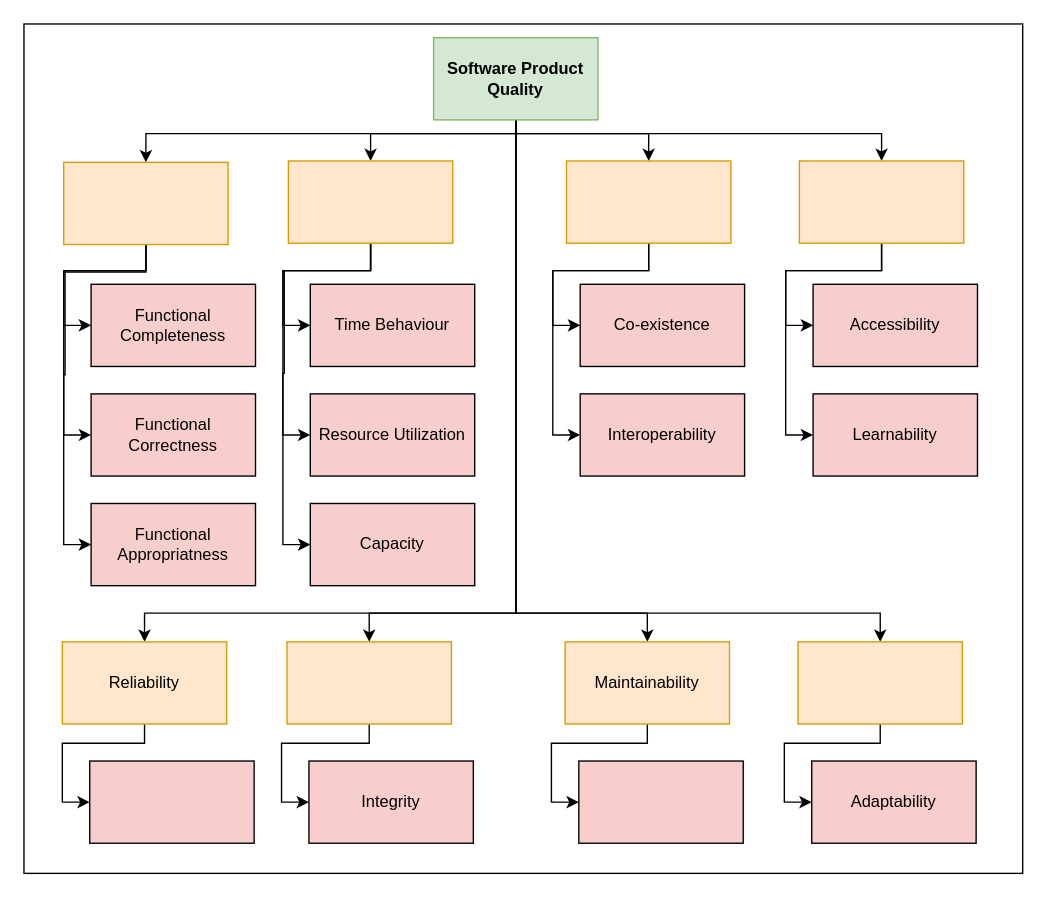
Some shapes in this 1047 by 897 pixel diagram are drawn without their labels. Here are the shapes that lost their labels. From the top down, the centre of each, then its label:
At [145,203]: "Functional Stability".
At [370,201]: "Performance Efficiency".
At [648,201]: "Compatibility".
At [881,201]: "Usability".
At [368,682]: "Security".
At [879,682]: "Portability".
At [171,801]: "Availability".
At [660,801]: "Testability".
